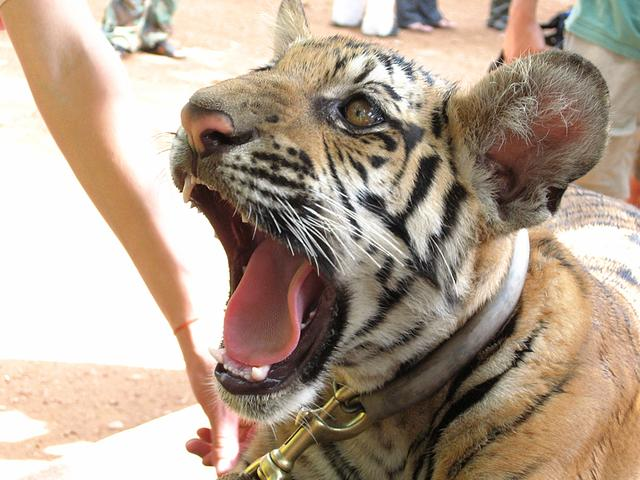tiger: (123, 21, 640, 461)
